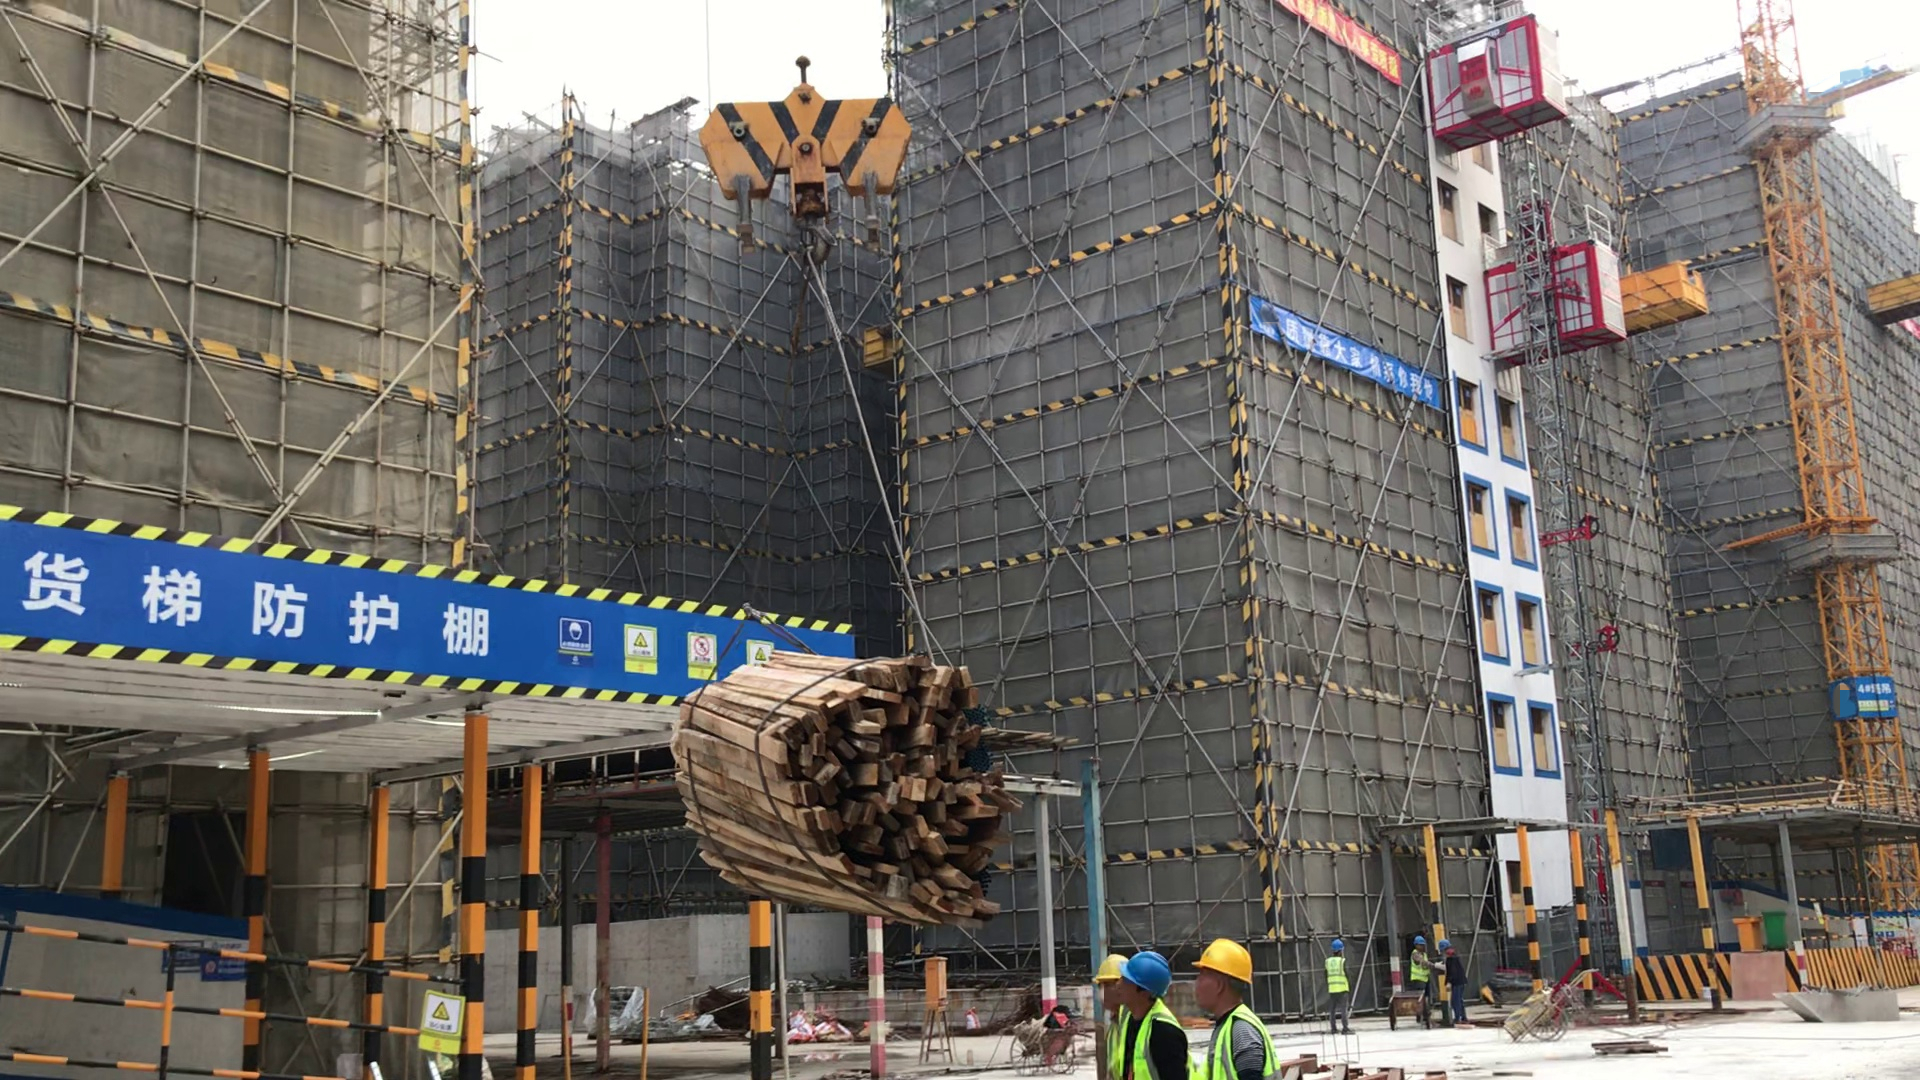ebox: (916, 951, 969, 1011)
fence: (1, 894, 469, 1077), (1794, 884, 1920, 961)
handcart: (1494, 966, 1611, 1051), (1005, 1004, 1091, 1080), (1381, 985, 1440, 1023)
helmet: (1193, 929, 1259, 997), (1119, 942, 1175, 1011), (1088, 934, 1123, 996), (1433, 934, 1457, 957), (1325, 938, 1348, 955), (1404, 934, 1428, 947)
hook: (644, 37, 956, 338)
hopper: (1746, 966, 1899, 1042)
person: (1169, 931, 1290, 1080), (1116, 954, 1194, 1080), (1313, 930, 1367, 1037), (1083, 945, 1132, 1043), (1433, 937, 1477, 1027), (1405, 929, 1433, 1029)
slogan: (2, 487, 884, 726), (1240, 288, 1453, 427), (1256, 1, 1419, 101), (156, 930, 252, 1001), (406, 981, 476, 1068), (1829, 668, 1910, 742), (1807, 898, 1829, 928), (1873, 919, 1906, 939)
vest: (1107, 1003, 1181, 1067), (1204, 1009, 1286, 1066), (1321, 954, 1352, 1000), (1404, 949, 1432, 985)
wood: (657, 651, 1052, 951)
